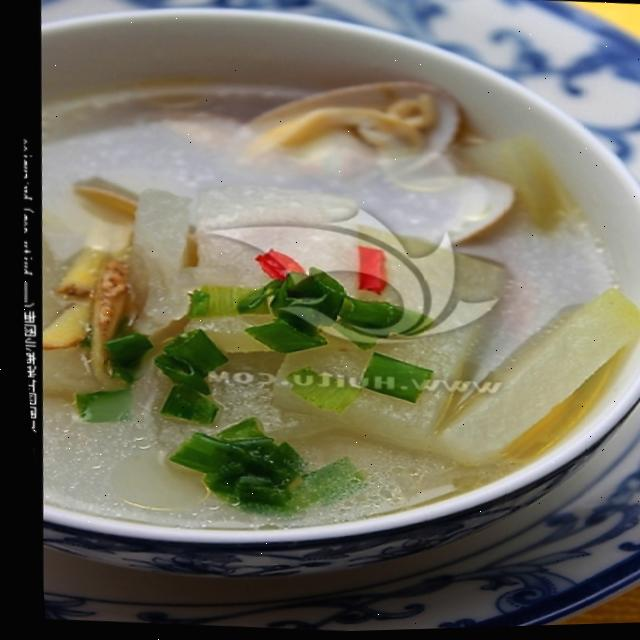汤锅炖物: (20, 6, 640, 590)
